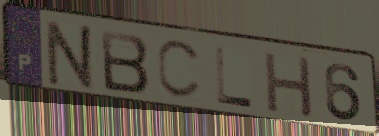6: (322, 61, 364, 123)
B: (98, 27, 152, 95)
C: (155, 39, 205, 103)
H: (262, 49, 316, 120)
L: (213, 44, 257, 110)
N: (44, 18, 98, 94)
